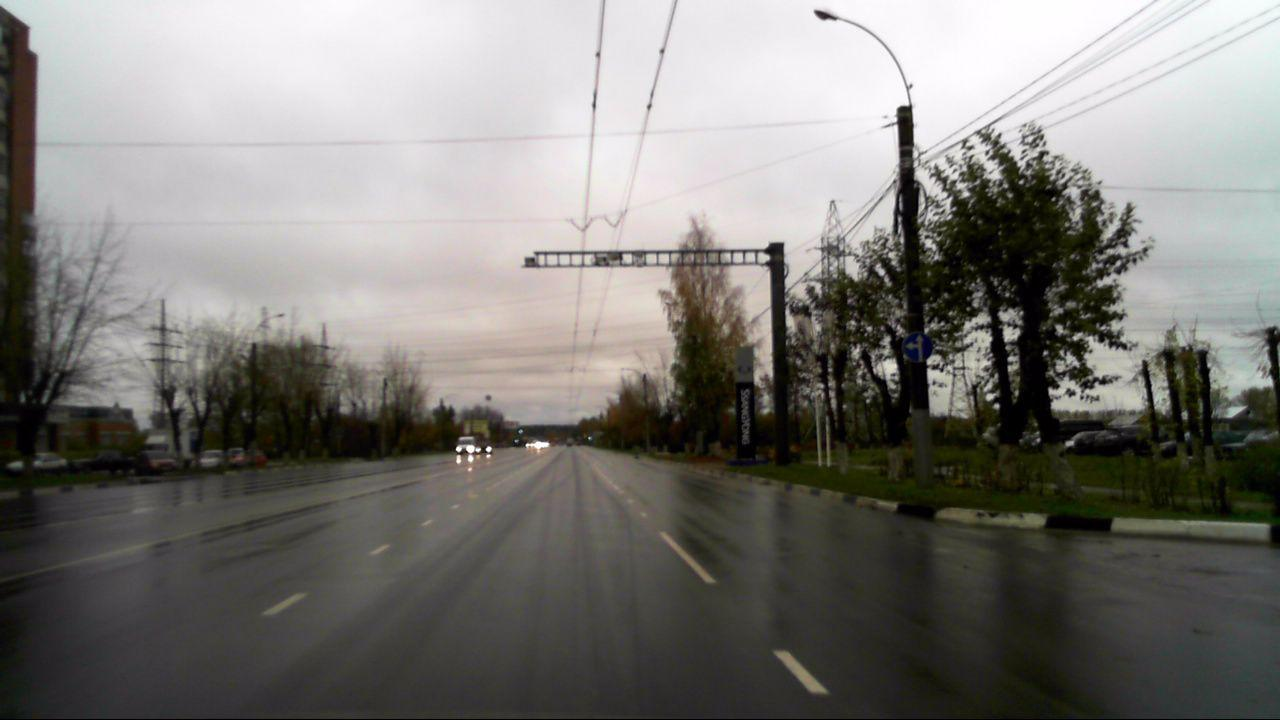4_1_5: (901, 332, 933, 362)
